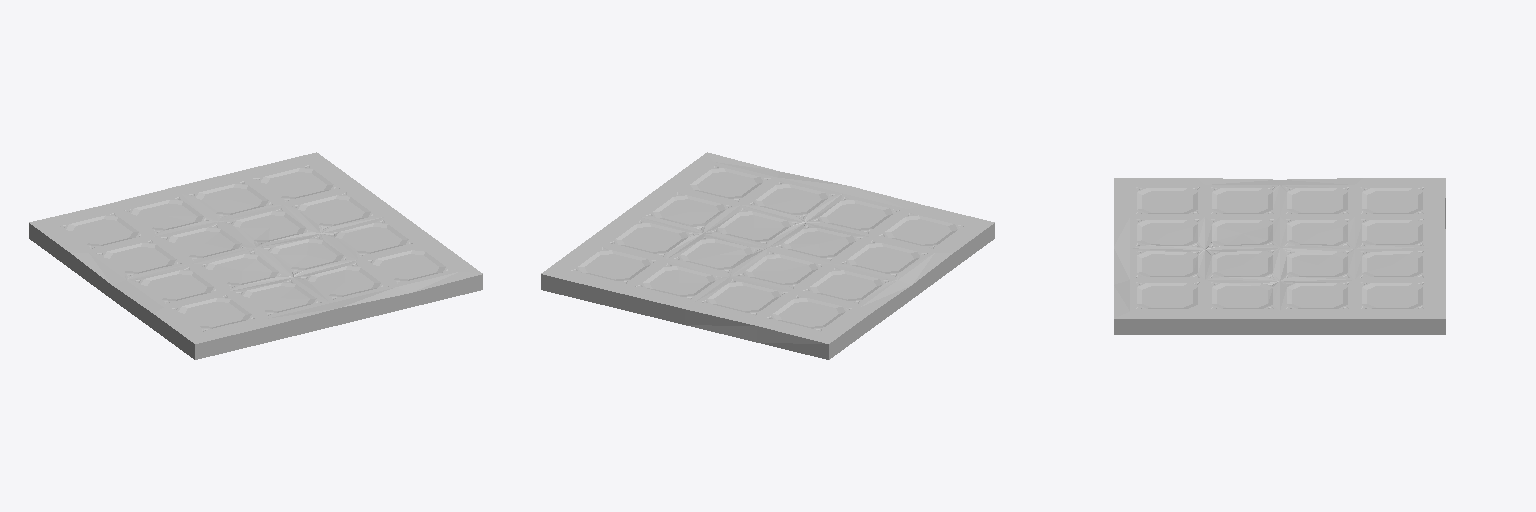
Rendered from Platform-4.obj.
The picture shows the model from 3 angles: view 1: azimuth 30°, elevation 25°; view 2: azimuth 150°, elevation 25°; view 3: azimuth 270°, elevation 25°; orthographic projection.
Parts seen in each view (by area): view 1: Cube_Cube.016; view 2: Cube_Cube.016; view 3: Cube_Cube.016.
Boxes of the visible parts, x1,y1,x2,y2 form: Cube_Cube.016: [29, 152, 482, 359]; Cube_Cube.016: [541, 152, 994, 359]; Cube_Cube.016: [1114, 178, 1445, 334].
Size of the model in its own units: 7.96 by 0.4625 by 7.96.